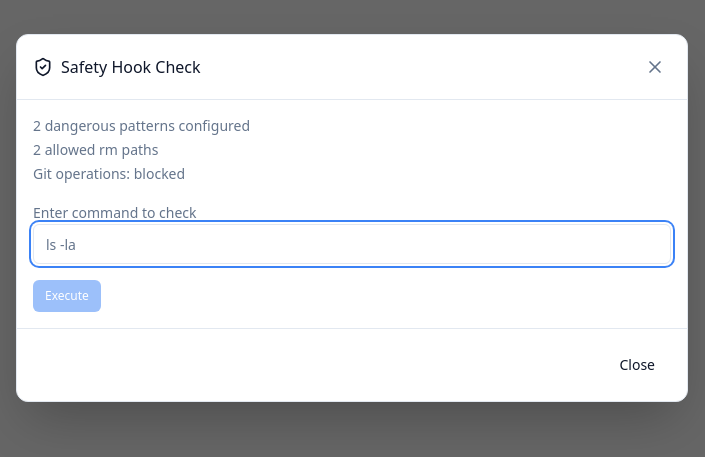
SafetyHookCheckDialog › shows "Blocked" with reason on blocked response
Type "rm -rf /" into the field with placeholder "ls -la" at x=352, y=244, box [33, 224, 671, 264]
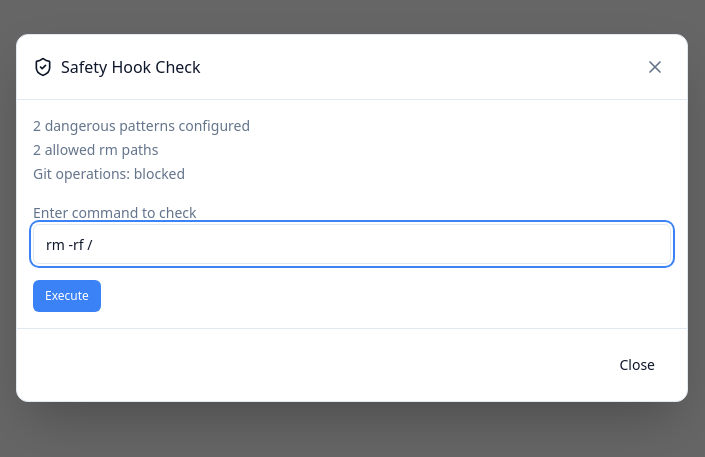
Click the button "Execute" at x=67, y=296, box [33, 280, 101, 312]
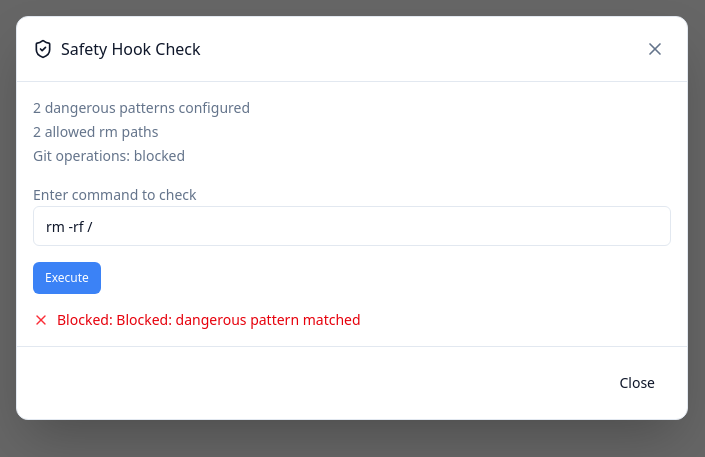
Check: the text "Blocked: Blocked: dangerous pattern matched" is shown, box [57, 310, 361, 330]
